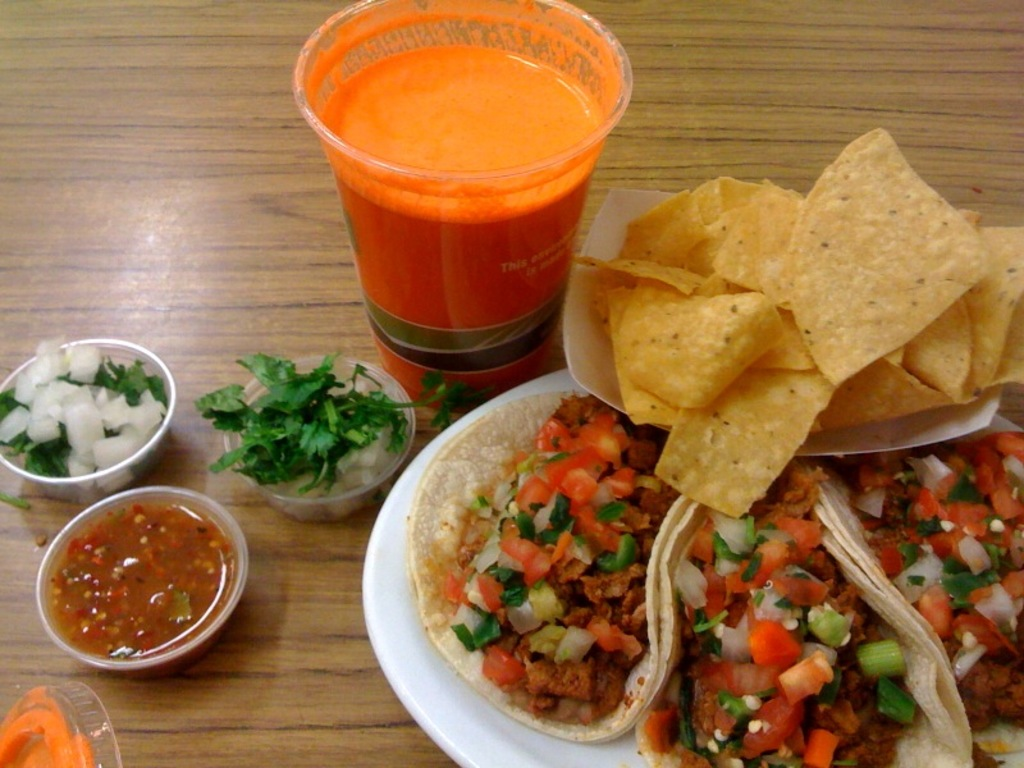taco: (406, 384, 721, 750), (635, 468, 972, 767), (791, 402, 1023, 767)
